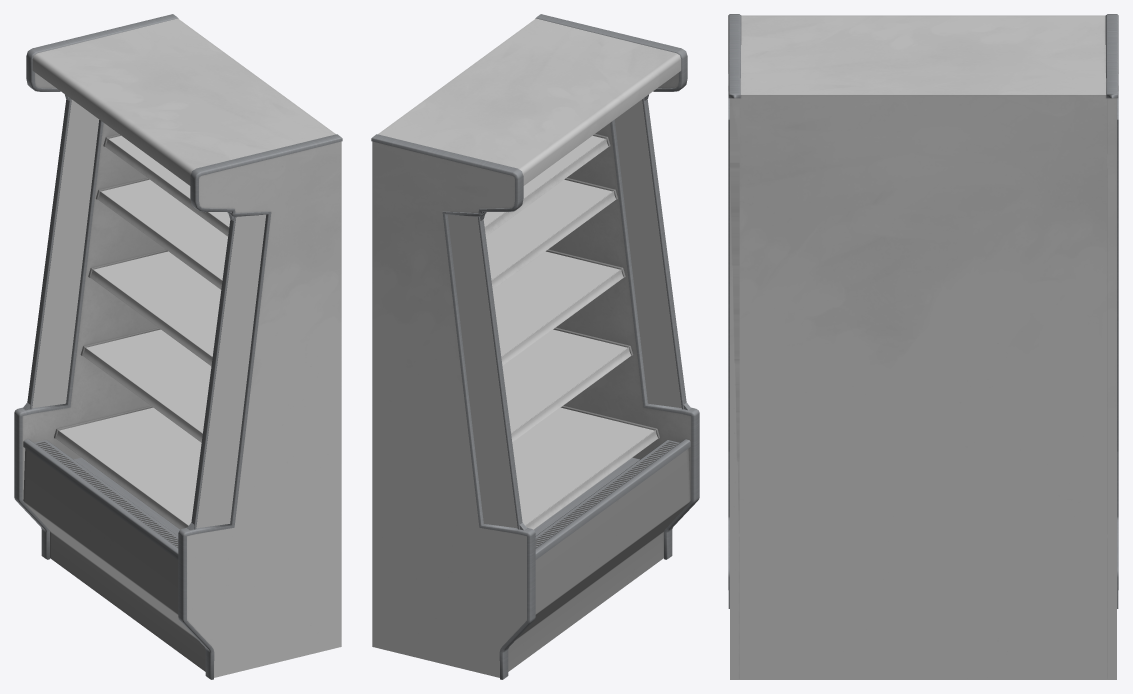
File: SM_Freezer_01.fbx
The picture shows the model from 3 angles, left to right: view 1: azimuth 30°, elevation 25°; view 2: azimuth 150°, elevation 25°; view 3: azimuth 270°, elevation 25°; orthographic projection. The views are drawn at different scales.
Visible parts, largest first — view 1: SM_Freezer_01_LOD0; view 2: SM_Freezer_01_LOD0; view 3: SM_Freezer_01_LOD0.
Boxes of the visible parts, left/top/right/bottom form: SM_Freezer_01_LOD0: left=14, top=14, right=342, bottom=679; SM_Freezer_01_LOD0: left=371, top=14, right=699, bottom=679; SM_Freezer_01_LOD0: left=728, top=14, right=1118, bottom=679.
Bounding box in the file's own units: 65.75 × 121 × 201.
2 materials, 1 textured.
